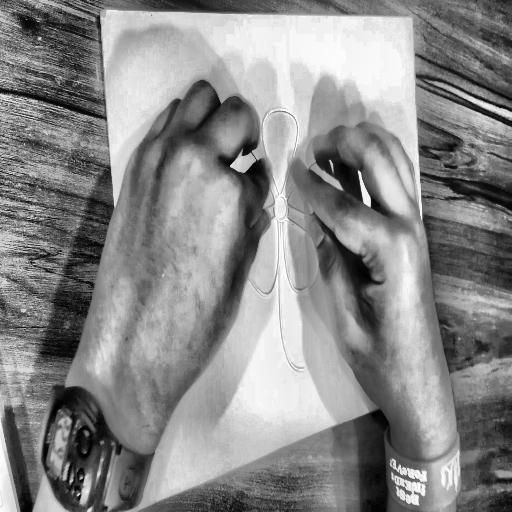bottom_right: (432, 374, 440, 386)
flower: (217, 91, 359, 403)
top_left: (97, 4, 106, 19)
top_right: (407, 11, 416, 25)
